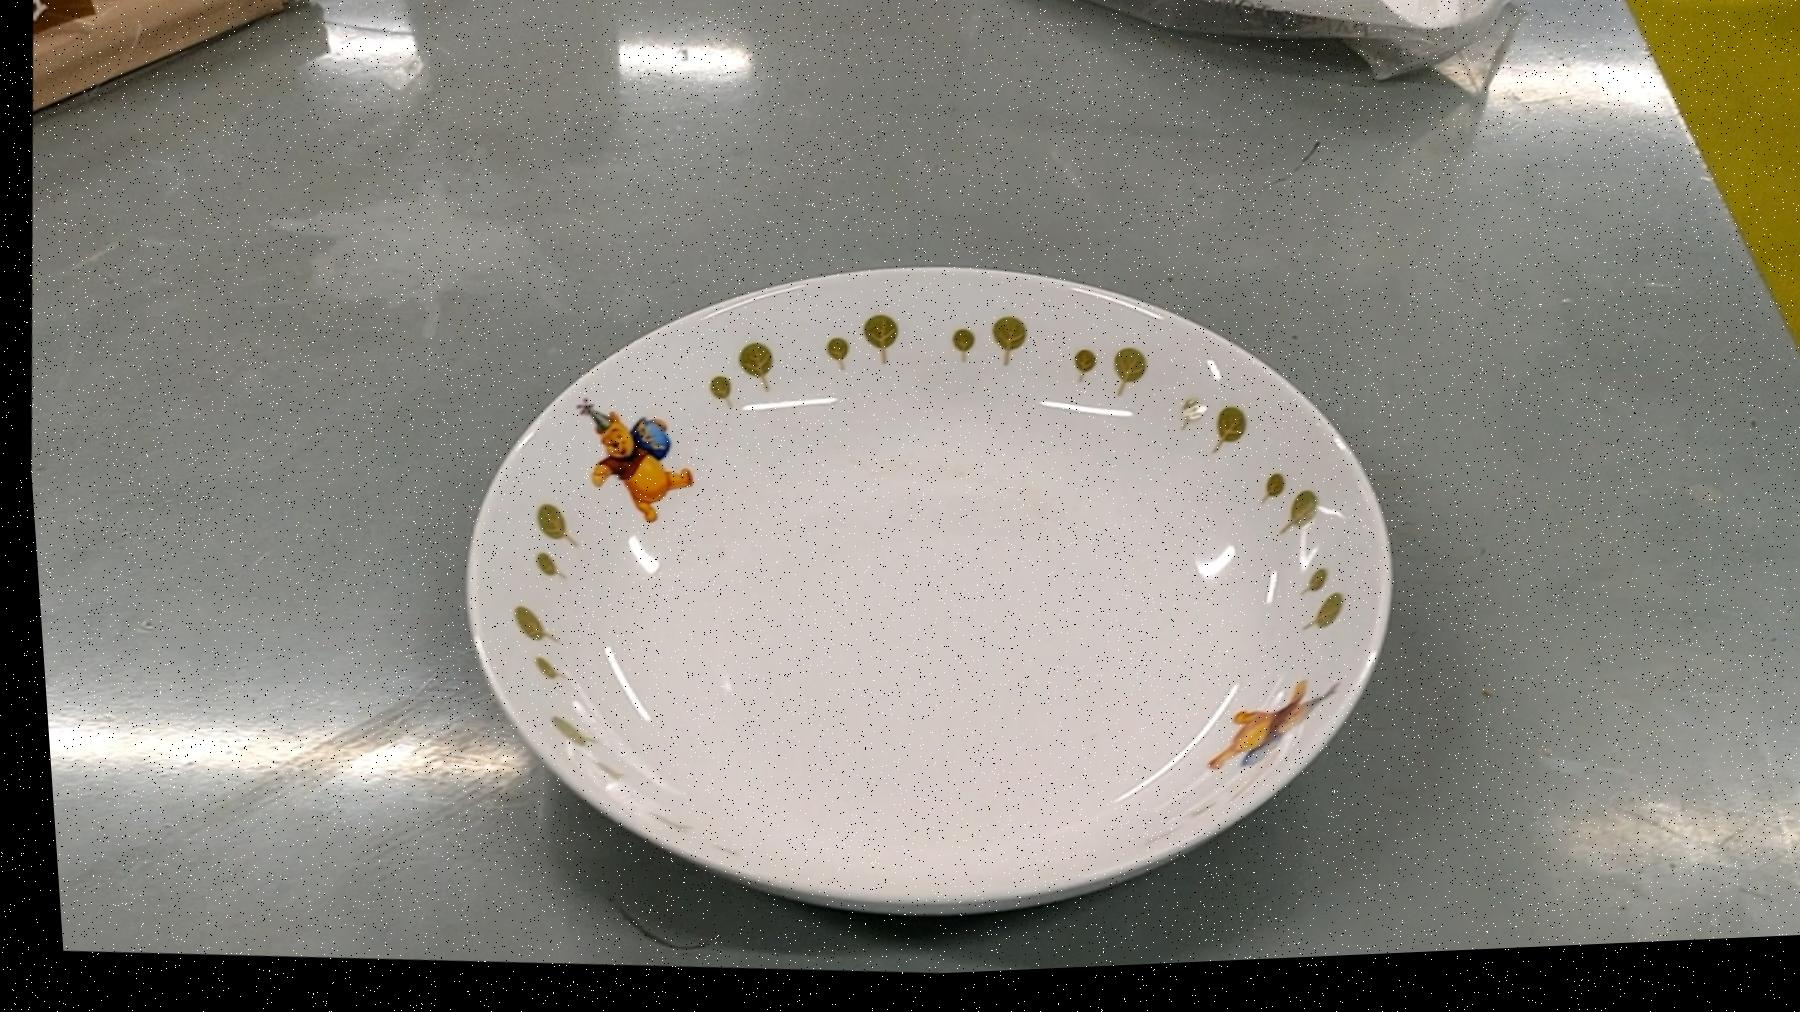plate: (417, 226, 1419, 977)
